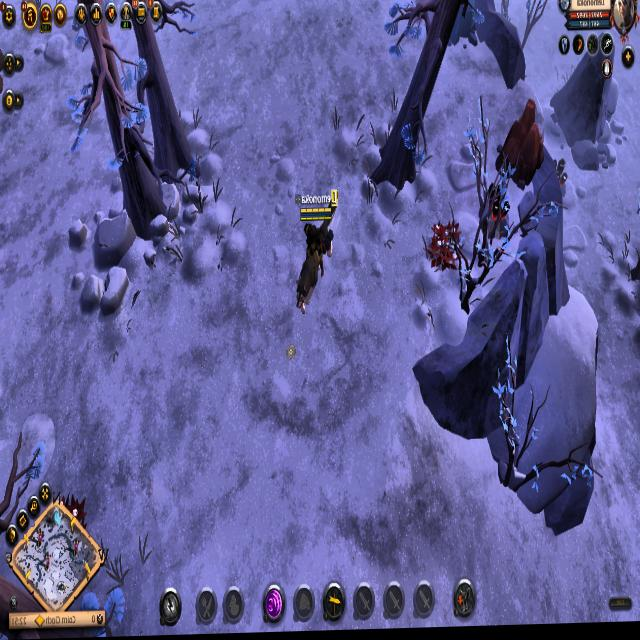fiber tier 5: (428, 216, 462, 283)
rock tier 5: (495, 103, 546, 198)
